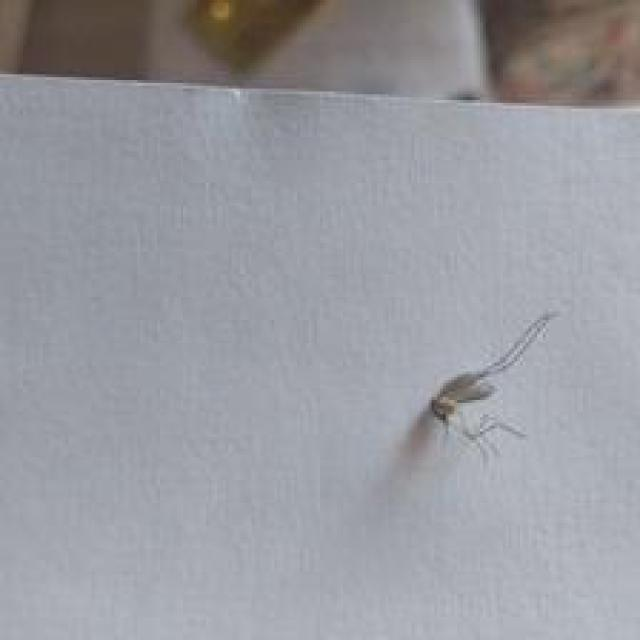Culex: (426, 307, 557, 464)
